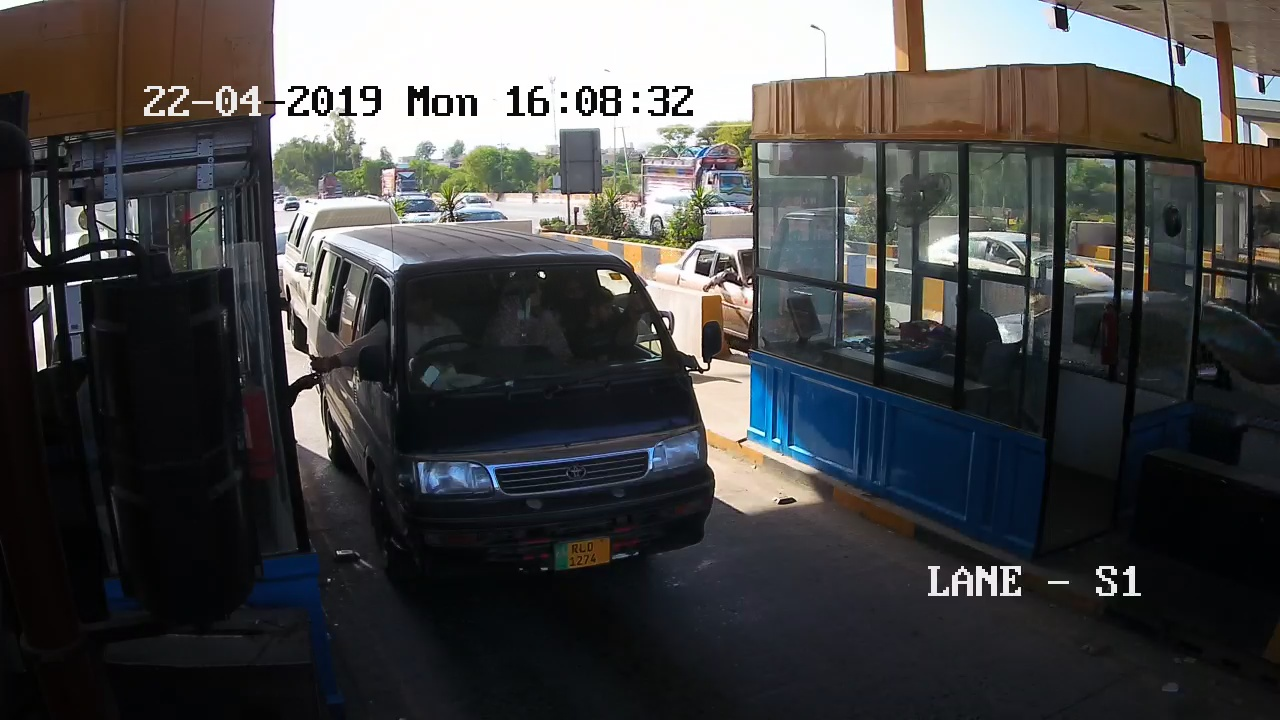Number Plate (Car): (554, 537, 612, 568)
